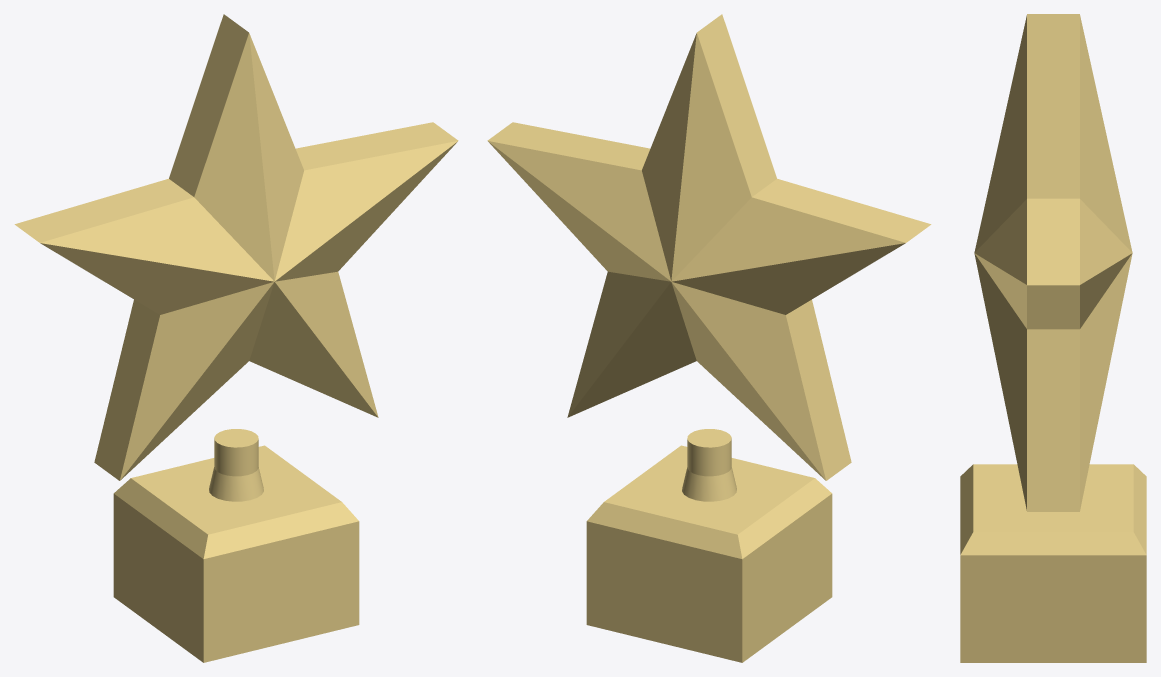
File: star.glb
The picture shows the model from 3 angles, left to right: view 1: azimuth 30°, elevation 25°; view 2: azimuth 150°, elevation 25°; view 3: azimuth 270°, elevation 25°; orthographic projection. The views are drawn at different scales.
Parts seen in each view (by area): view 1: star; view 2: star; view 3: star.
Part boxes in pixels (x1=…): star: x1=14, y1=14, x2=458, y2=662; star: x1=487, y1=14, x2=931, y2=662; star: x1=960, y1=14, x2=1146, y2=662.
Size of the model in its own units: 0.7608 by 1.02 by 0.2828.
